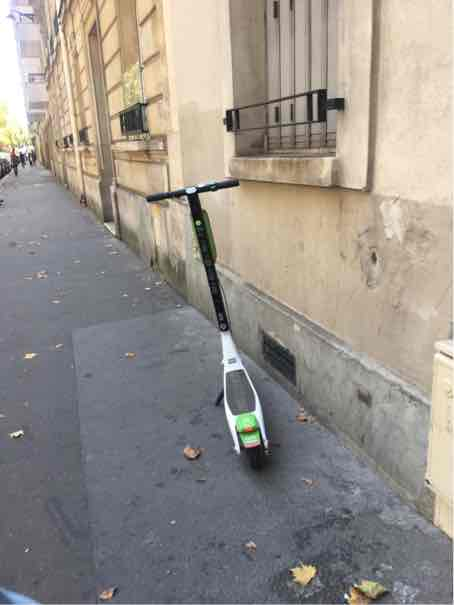scooter: (126, 164, 283, 487)
